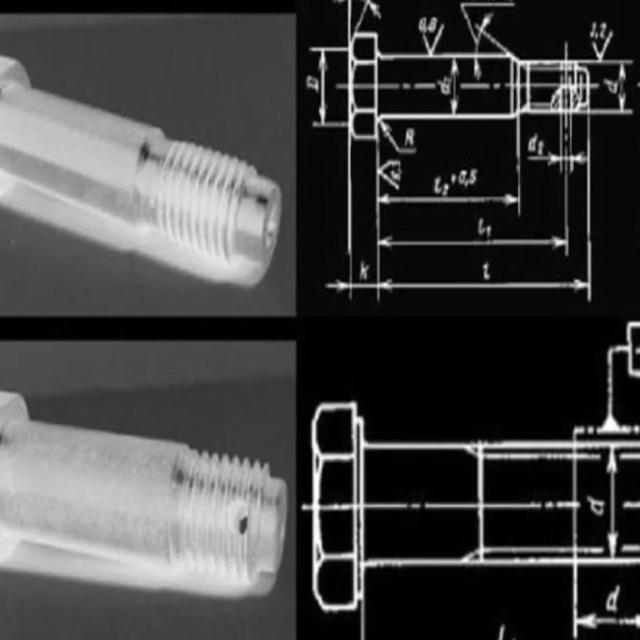marking_line: (372, 143, 594, 299), (374, 142, 573, 254), (327, 139, 392, 300), (373, 142, 520, 213), (571, 567, 640, 639), (528, 114, 595, 172), (309, 47, 346, 130), (591, 59, 633, 115), (605, 446, 620, 556), (380, 122, 419, 155), (449, 59, 459, 114), (472, 58, 487, 82)
numeric: (605, 581, 624, 614), (587, 496, 607, 518), (404, 127, 418, 148), (473, 216, 486, 238), (306, 74, 319, 94), (358, 260, 370, 279), (431, 175, 443, 194), (481, 222, 494, 239), (436, 82, 451, 96), (601, 77, 614, 93), (448, 168, 459, 185), (428, 17, 439, 34), (482, 263, 492, 281), (468, 167, 477, 187), (589, 22, 598, 40), (441, 181, 450, 198), (457, 168, 467, 183), (418, 15, 426, 33), (599, 23, 608, 39), (391, 169, 402, 182), (444, 75, 449, 85)
special_symbol: (460, 4, 519, 51), (589, 33, 613, 62), (417, 36, 445, 53)
